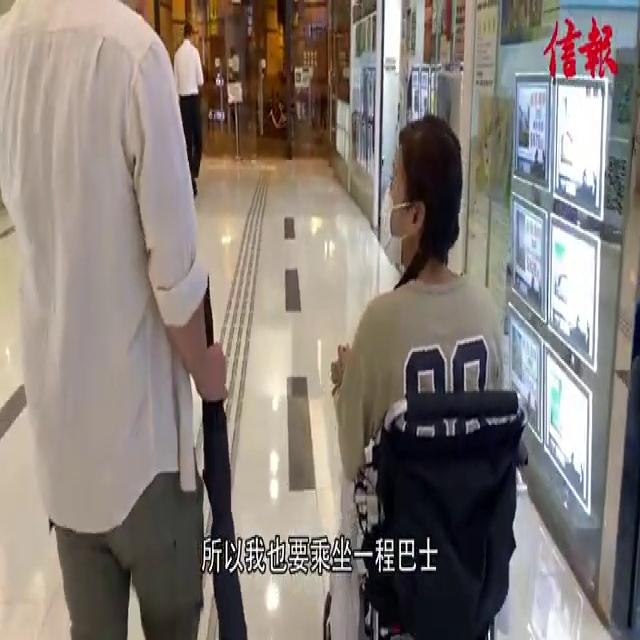wheelchairs: (338, 382, 535, 640)
